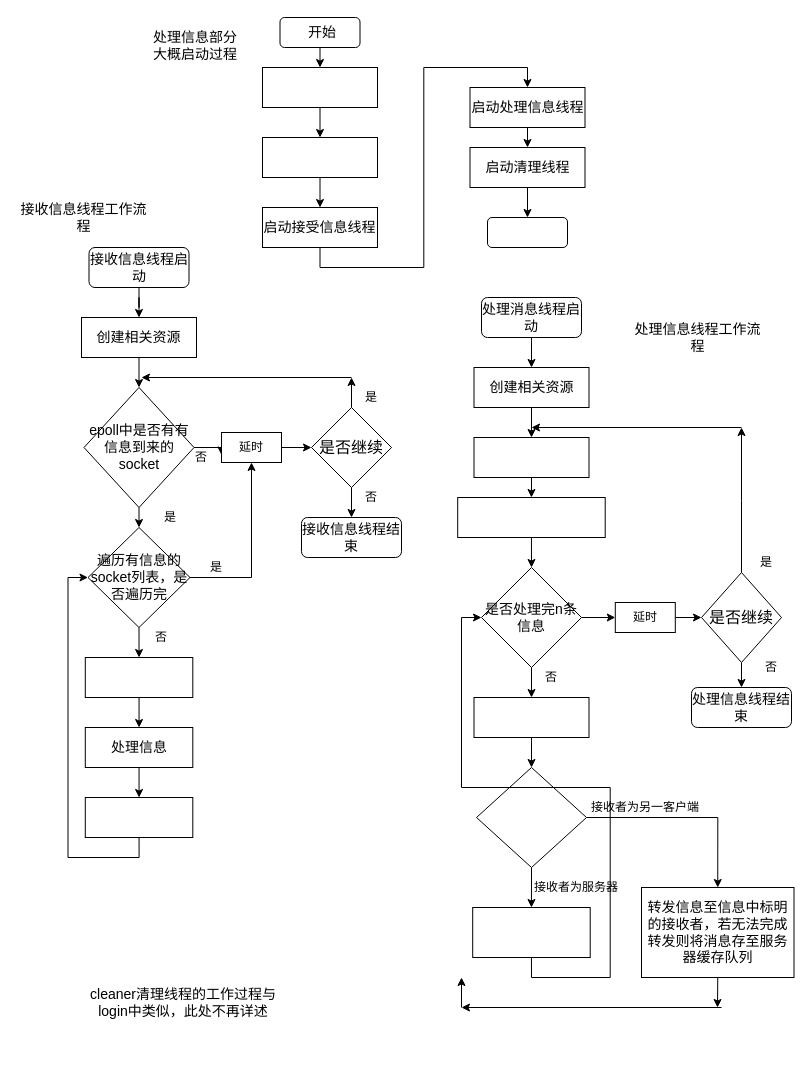
Image size: 811x1065. Some labels were removed from this diagram. Each missing label, with the centre of its shape:
从socket中接收信息: point 138,677
依据规则决定本次要处理的信息条数n: point 531,517
信息队列pop，得到信息: point 531,717
创建epoll、信息队列等相关资源: point 320,87
判断消息中标明的消息接收者: point 531,817
处理信息，并将结果发送至信息发送者: point 531,932
处理后的信息加入信息队列: point 138,817
结束: point 527,232
获取信息队列中的信息条数: point 531,457
连接数据库，获得所有用户列表: point 320,157
